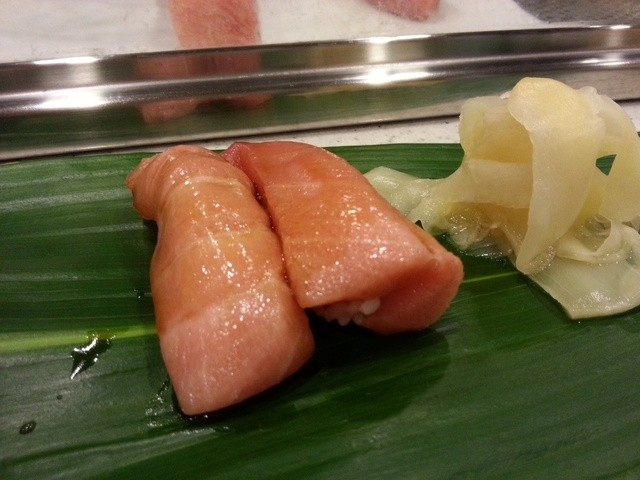medium_fatty_tuna: (127, 147, 313, 407), (256, 139, 434, 336)
